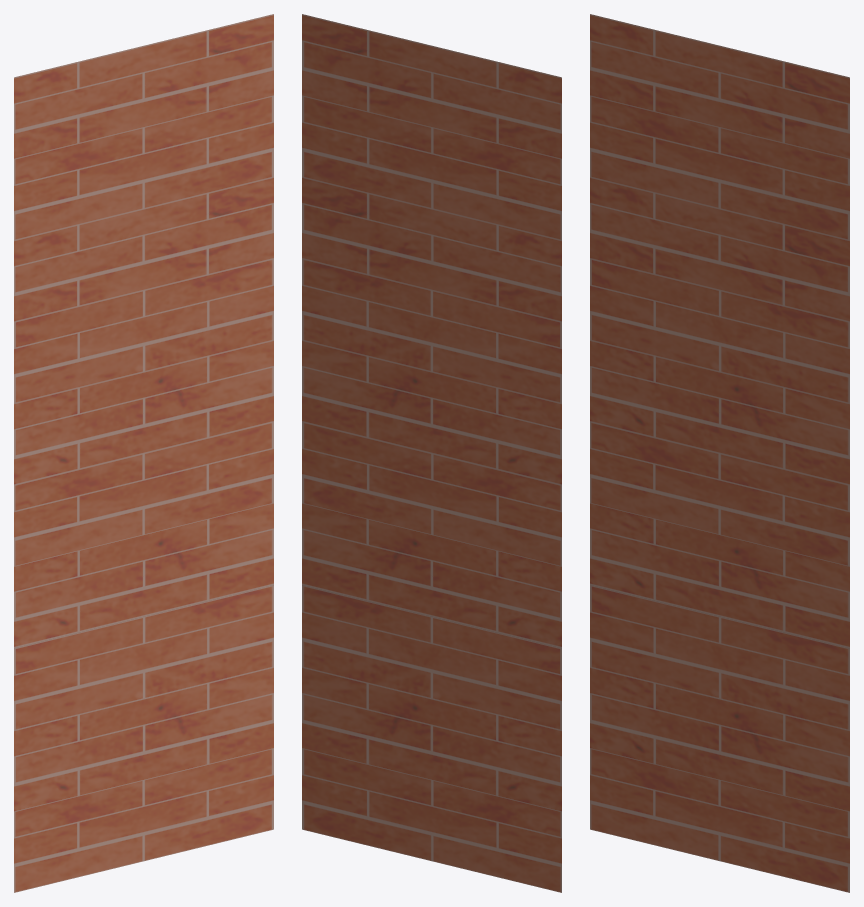
Rendered from MT_OS_Single_Wall.fbx.
3 renders of one model, left to right at view 1: azimuth 30°, elevation 25°; view 2: azimuth 150°, elevation 25°; view 3: azimuth 330°, elevation 25°, orthographic.
Visible parts, largest first — view 1: LP_MiddleOutsideWall.002; view 2: LP_MiddleOutsideWall.002; view 3: LP_MiddleOutsideWall.002.
Part boxes in pixels (<box>): LP_MiddleOutsideWall.002: <box>14,14,273,892</box>; LP_MiddleOutsideWall.002: <box>302,14,561,892</box>; LP_MiddleOutsideWall.002: <box>590,14,849,892</box>.
Bounding box in the file's own units: 100 × 300 × 6.68e-05.
